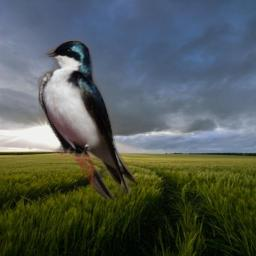Swallow: (37, 38, 136, 199)
